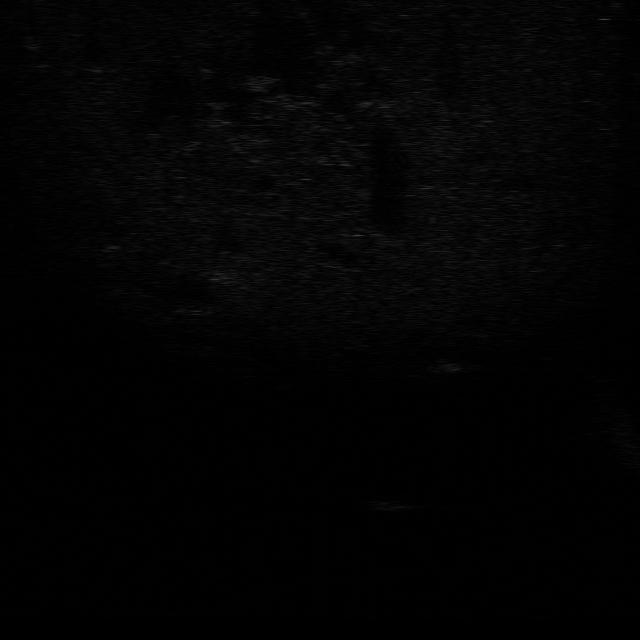cube: (367, 498, 412, 514)
square cage: (427, 356, 478, 374)
